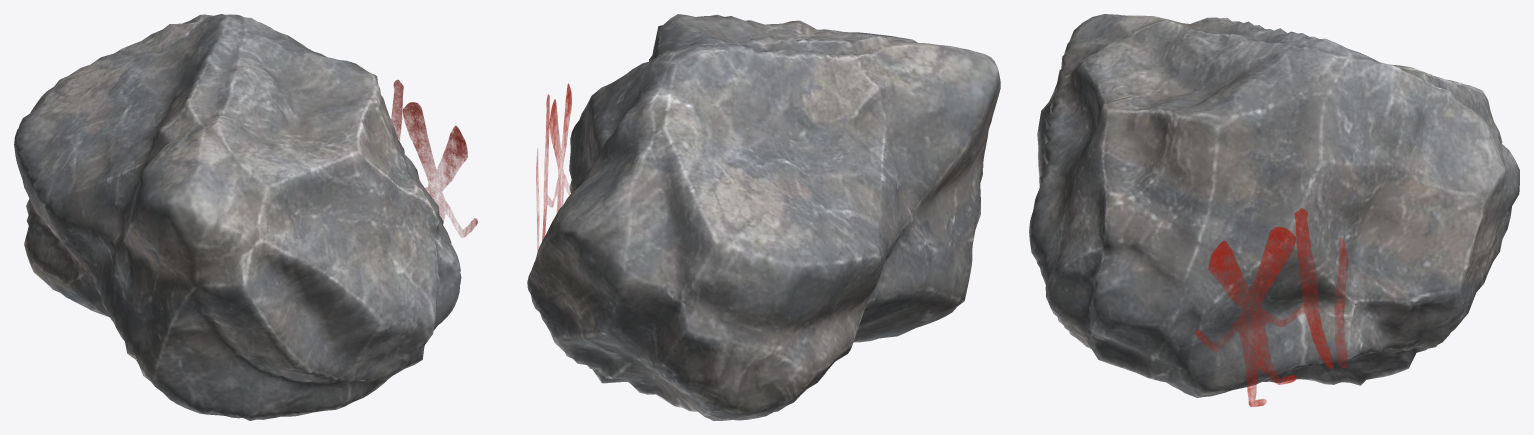
Rendered from Trickster-Erratic-left-v4.glb.
3 views of the same model, side by side, from view 1: azimuth 30°, elevation 25°; view 2: azimuth 150°, elevation 25°; view 3: azimuth 270°, elevation 25° (orthographic). The views are drawn at different scales.
Visible parts, largest first — view 1: Rock-5.002, nanbuozho-pictograph.010; view 2: Rock-5.002, nanbuozho-pictograph.010; view 3: Rock-5.002, nanbuozho-pictograph.010.
Boxes of the visible parts, <box> form: Rock-5.002: <box>14,14,461,420</box>; nanbuozho-pictograph.010: <box>391,80,477,237</box>; Rock-5.002: <box>527,14,1000,420</box>; nanbuozho-pictograph.010: <box>536,83,571,252</box>; Rock-5.002: <box>1029,14,1519,397</box>; nanbuozho-pictograph.010: <box>1195,208,1348,406</box>.
Size of the model in its own units: 2.92 by 2.39 by 3.34.
Materials: 2 (2 with a texture image).
